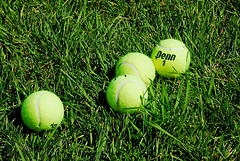tennis ball: (20, 90, 64, 132), (151, 38, 191, 78), (106, 75, 148, 112), (115, 51, 155, 86)
